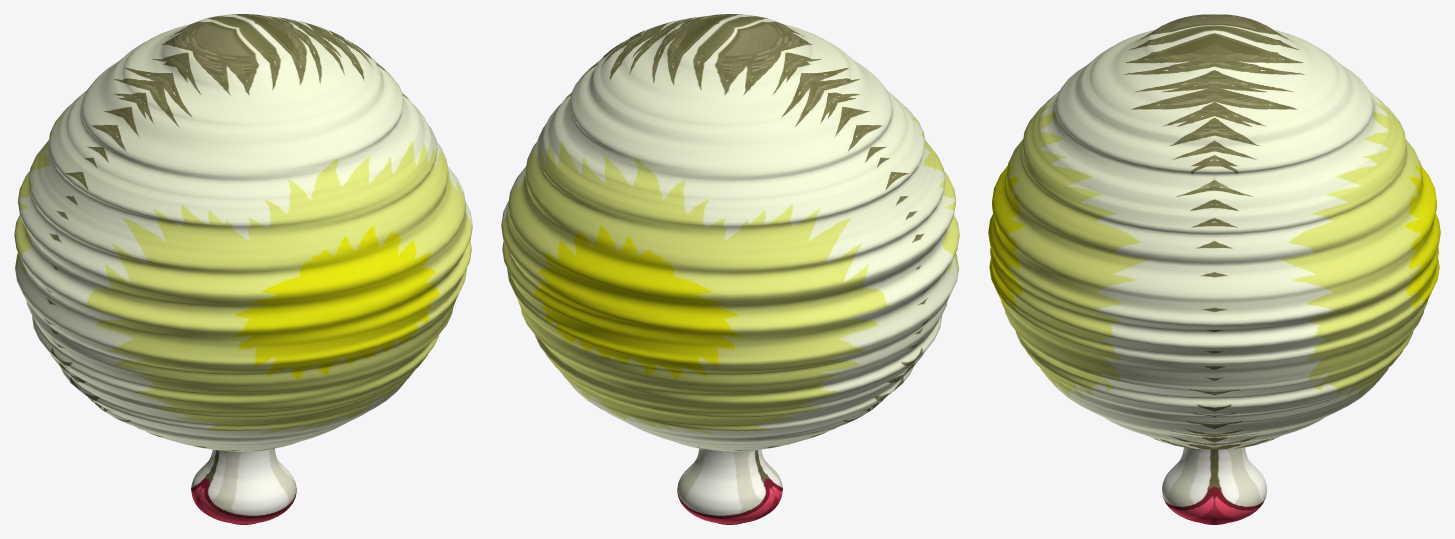
File: giant_puff_bloom.glb
3 views of the same model, side by side, from view 1: azimuth 30°, elevation 25°; view 2: azimuth 150°, elevation 25°; view 3: azimuth 270°, elevation 25° (orthographic).
Visible parts, largest first — view 1: giant_puff_bloom; view 2: giant_puff_bloom; view 3: giant_puff_bloom.
Part boxes in pixels (x1,y1,x2,y2): giant_puff_bloom: (14, 14, 472, 524); giant_puff_bloom: (501, 14, 959, 524); giant_puff_bloom: (988, 14, 1440, 524).
Size of the model in its own units: 0.9753 by 1.15 by 0.9648.
1 material, 1 textured.
